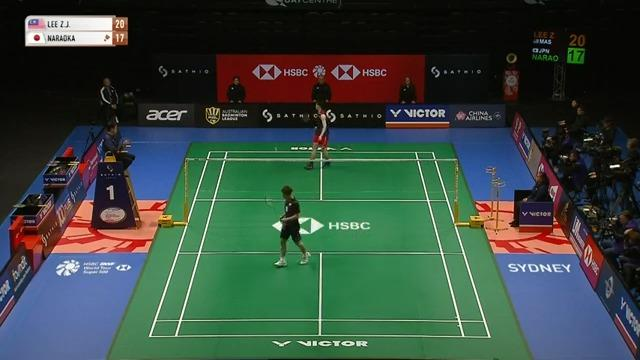Shuttlecock: (272, 146, 278, 151)
